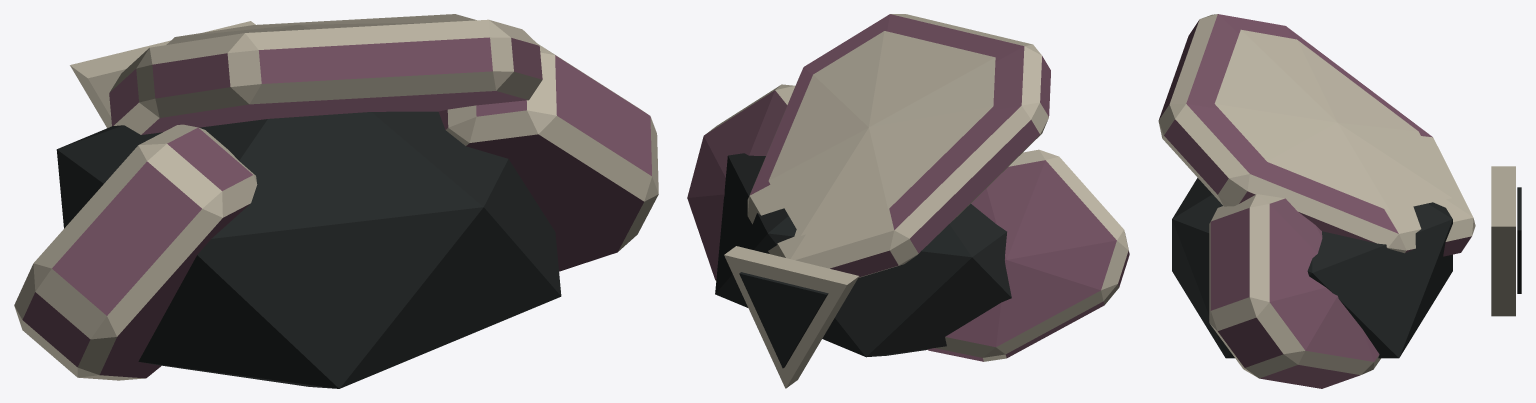
File: boss_bundle.glb
3 renders of one model, left to right at view 1: azimuth 30°, elevation 25°; view 2: azimuth 150°, elevation 25°; view 3: azimuth 270°, elevation 25°, orthographic. The views are drawn at different scales.
Parts seen in each view (by area): view 1: Compressed shell folds, Pale crest shard, Folded plum shell -1, Folded plum shell 1, Dark prism rim, Boss crest pale inset; view 2: Boss crest pale inset, Pale crest shard, Folded plum shell -1, Compressed shell folds, Folded plum shell 1, Dark prism rim, Unlit prism lens; view 3: Boss crest pale inset, Folded plum shell 1, Pale crest shard, Compressed shell folds, Dark prism rim, Unlit prism lens.
Part boxes in pixels (<box>): Compressed shell folds: <box>56,111,561,388</box>; Pale crest shard: <box>109,19,542,134</box>; Folded plum shell -1: <box>14,124,257,380</box>; Folded plum shell 1: <box>439,43,658,271</box>; Dark prism rim: <box>70,21,255,128</box>; Boss crest pale inset: <box>166,14,476,44</box>; Boss crest pale inset: <box>768,31,995,235</box>; Pale crest shard: <box>747,14,1050,277</box>; Folded plum shell -1: <box>927,149,1129,361</box>; Compressed shell folds: <box>715,153,1011,357</box>; Folded plum shell 1: <box>687,84,795,281</box>; Dark prism rim: <box>724,246,859,388</box>; Unlit prism lens: <box>739,272,828,368</box>; Boss crest pale inset: <box>1214,29,1451,211</box>; Folded plum shell 1: <box>1209,194,1380,388</box>; Pale crest shard: <box>1158,14,1475,256</box>; Compressed shell folds: <box>1172,177,1452,358</box>; Dark prism rim: <box>1491,166,1515,316</box>; Unlit prism lens: <box>1517,187,1521,293</box>.
Size of the model in its own units: 0.3572 by 0.2398 by 0.264.
